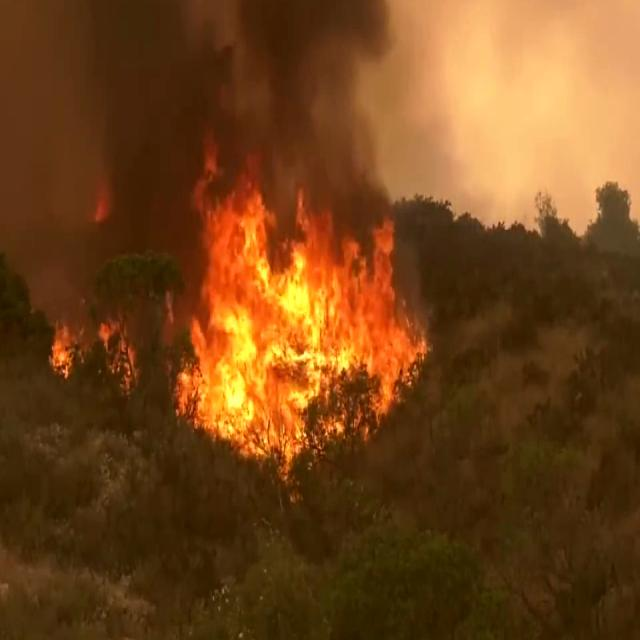fire: (177, 104, 437, 465)
smoke: (37, 0, 226, 216)
